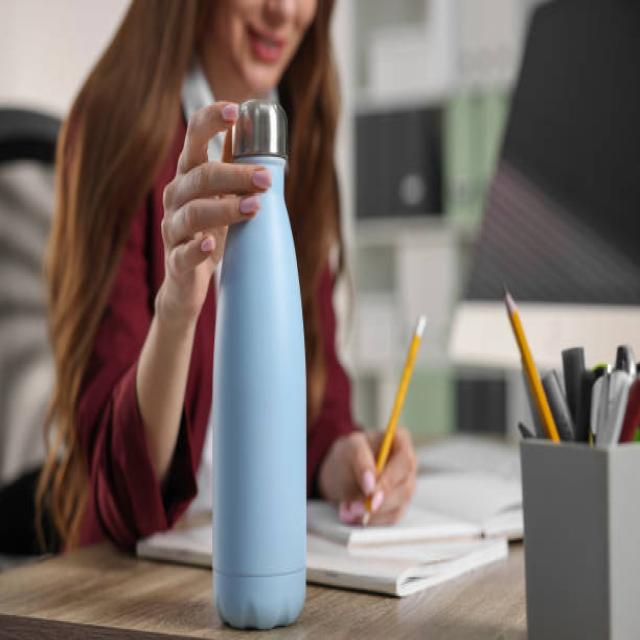blue_bottle: (211, 91, 307, 632)
